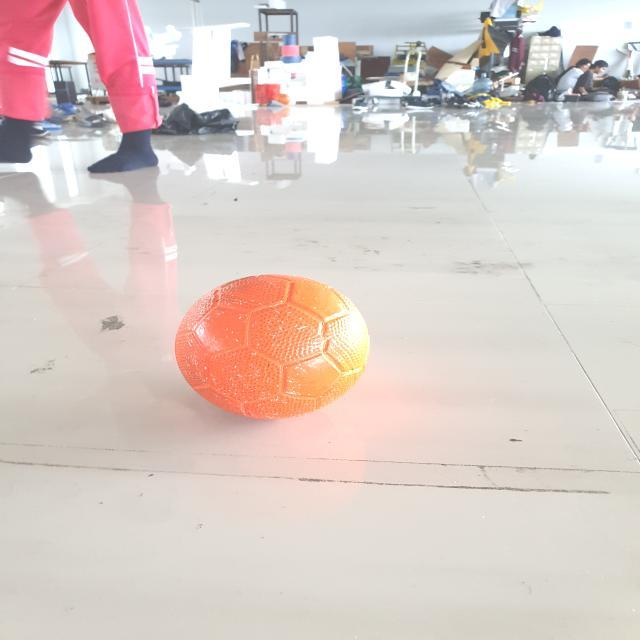bola: (169, 267, 385, 427)
